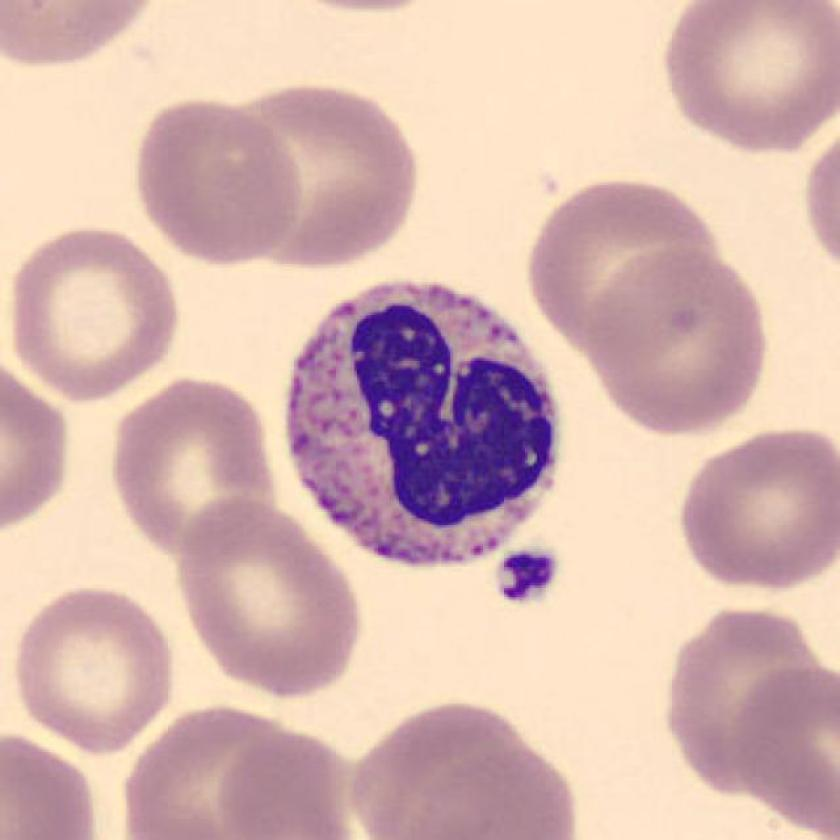neutrophil: (289, 281, 558, 570)
